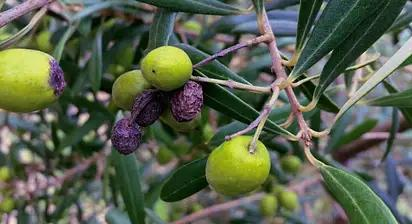Anthracnose: (169, 78, 205, 124), (130, 88, 170, 127), (108, 116, 146, 156), (42, 55, 69, 98)
